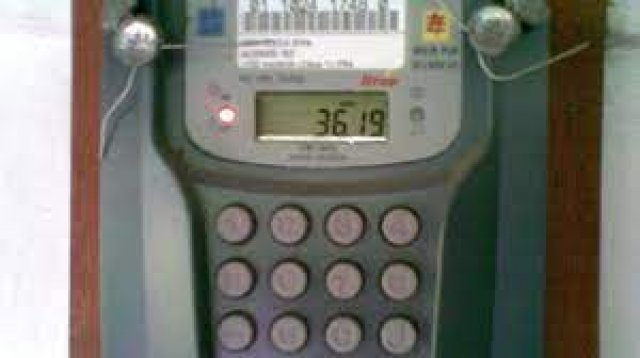box: (256, 91, 391, 138)
